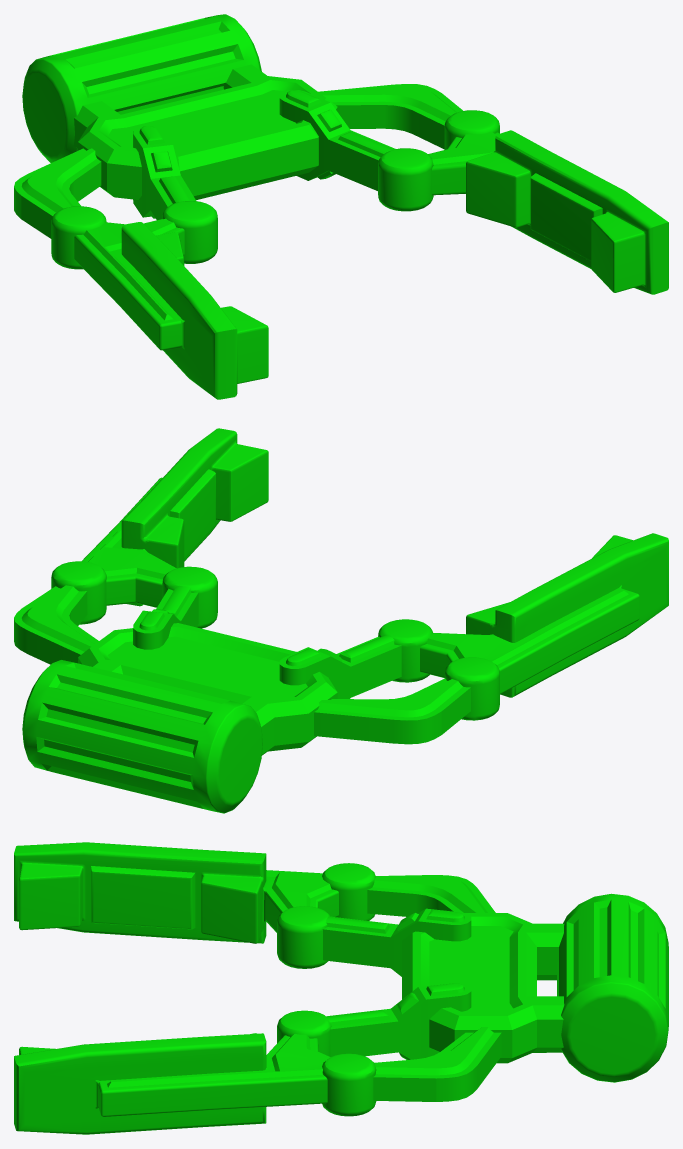
The model's file is Embout_Pince.fbx.
The picture shows the model from 3 angles, top to bottom: view 1: azimuth 30°, elevation 25°; view 2: azimuth 150°, elevation 25°; view 3: azimuth 270°, elevation 25°; orthographic projection.
Visible parts, largest first — view 1: Pince; view 2: Pince; view 3: Pince.
Part boxes in pixels (x1,y1,x2,y2): Pince: (14, 14, 668, 399); Pince: (14, 428, 668, 813); Pince: (14, 842, 668, 1134).
Size of the model in its own units: 426 by 86.73 by 507.
